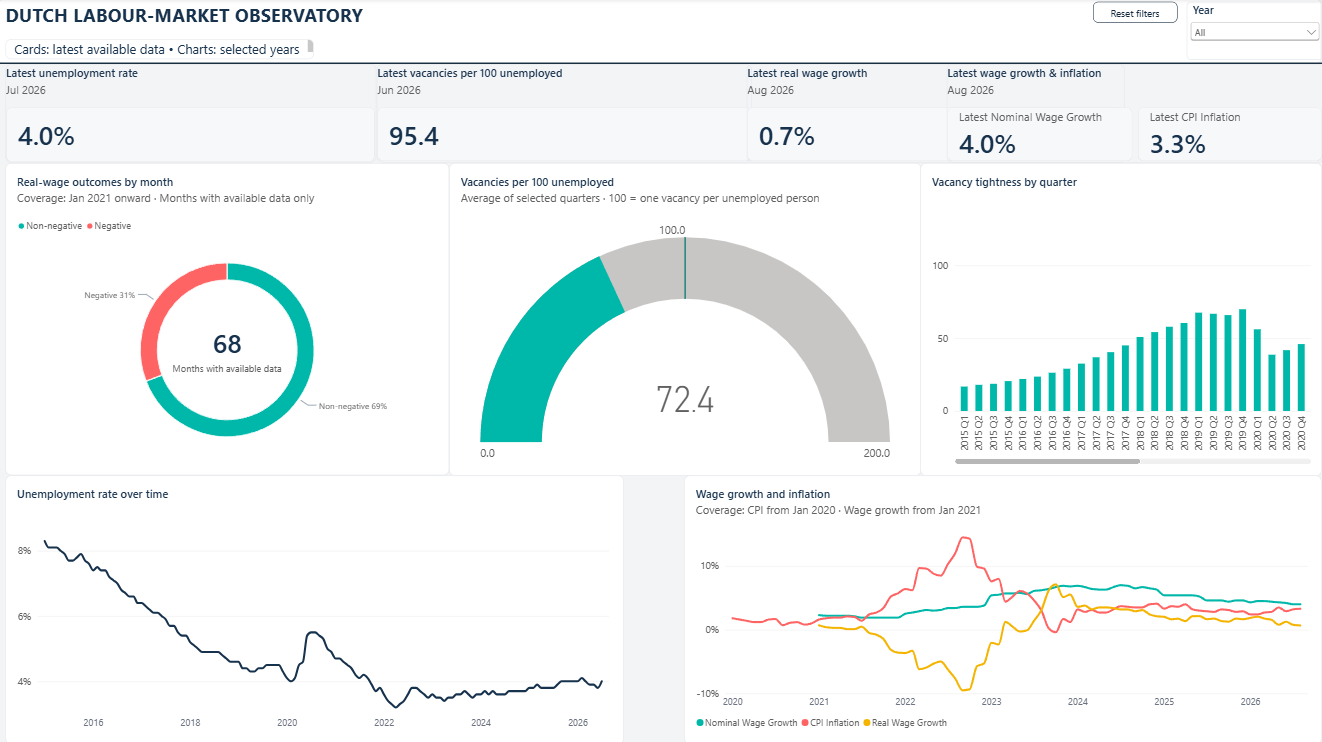

The dashboard page shown, as its layout file describes it:
{"tool":"powerbi","page":{"name":"Labour-market overview","canvas":[1920,1080],"ordinal":0},"visuals":[{"type":"shape","box":[0,2.5,1917.5,92.5],"z":0},{"type":"textbox","box":[10,5,547.5,57],"z":1000},{"type":"cardVisual","title":"Latest unemployment rate","fields":{"Data":["dim_month.Latest Unemployment Rate"]},"box":[10,96.7,536.7,142.2],"z":2000},{"type":"cardVisual","title":"Latest vacancies per 100 unemployed","fields":{"Data":["dim_month.Latest Vacancies per 100 Unemployed"]},"box":[547.5,96.7,543.4,142],"z":3000},{"type":"cardVisual","title":"Latest real wage growth","fields":{"Data":["dim_month.Latest Real Wage Growth"]},"box":[1084.7,96.7,547.5,142],"z":4000},{"type":"cardVisual","title":"Latest wage growth & inflation","fields":{"Data":["dim_month.Latest Nominal Wage Growth","dim_month.Latest CPI Inflation"]},"box":[1372.9,96.7,547.5,142],"z":5000},{"type":"lineChart","title":"Unemployment rate over time","fields":{"Category":["monthly_trends.period"],"Y":["dim_month.Unemployment Rate"]},"box":[10.3,691.6,895.4,389],"z":6000},{"type":"lineChart","title":"Wage growth and inflation","fields":{"Category":["monthly_trends.period"],"Y":["dim_month.Nominal Wage Growth","dim_month.CPI Inflation","dim_month.Real Wage Growth"]},"box":[994.2,691.6,924.2,389],"z":7000},{"type":"shape","box":[0,77.5,1918.8,33.3],"z":8000},{"type":"slicer","fields":{"Values":["dim_month.Year"]},"box":[1720.9,5.1,199.1,84.3],"z":9000},{"type":"donutChart","title":"Real-wage outcomes by month","fields":{"Category":["monthly_trends.Real Wage Direction"],"Y":["CountNonNull(monthly_trends.Real Wage Direction)"]},"box":[10,238.9,642.2,452.2],"z":10000},{"type":"gauge","title":"Vacancies per 100 unemployed","fields":{"Y":["dim_month.Vacancies per 100 Unemployed"]},"box":[652.5,238.8,683.4,452.8],"z":11000},{"type":"clusteredColumnChart","title":"Vacancy tightness by quarter","fields":{"Category":["quarterly_tightness.Quarter Label"],"Y":["dim_month.Vacancies per 100 Unemployed"]},"box":[1335.9,238.8,582.5,452.8],"z":12000},{"type":"actionButton","title":"Reset filters","box":[1586,6,122,30],"z":13000},{"type":"textbox","box":[10.3,59.7,446.7,28.8],"z":14000}]}

Visuals, with their boxes in screenshot pixels (x1, y1, x2, y2), scaled from the page's 1920x1080 canvas onto the 1322x742 screenshot:
shape: crop(0, 2, 1320, 65)
textbox: crop(7, 3, 384, 43)
"Latest unemployment rate" cardVisual: crop(7, 66, 376, 164)
"Latest vacancies per 100 unemployed" cardVisual: crop(377, 66, 751, 164)
"Latest real wage growth" cardVisual: crop(747, 66, 1124, 164)
"Latest wage growth & inflation" cardVisual: crop(945, 66, 1321, 164)
"Unemployment rate over time" lineChart: crop(7, 475, 624, 741)
"Wage growth and inflation" lineChart: crop(685, 475, 1321, 741)
shape: crop(0, 53, 1321, 76)
slicer - dim_month.Year: crop(1185, 4, 1321, 61)
"Real-wage outcomes by month" donutChart: crop(7, 164, 449, 475)
"Vacancies per 100 unemployed" gauge: crop(449, 164, 920, 475)
"Vacancy tightness by quarter" clusteredColumnChart: crop(920, 164, 1321, 475)
"Reset filters" actionButton: crop(1092, 4, 1176, 25)
textbox: crop(7, 41, 315, 61)
